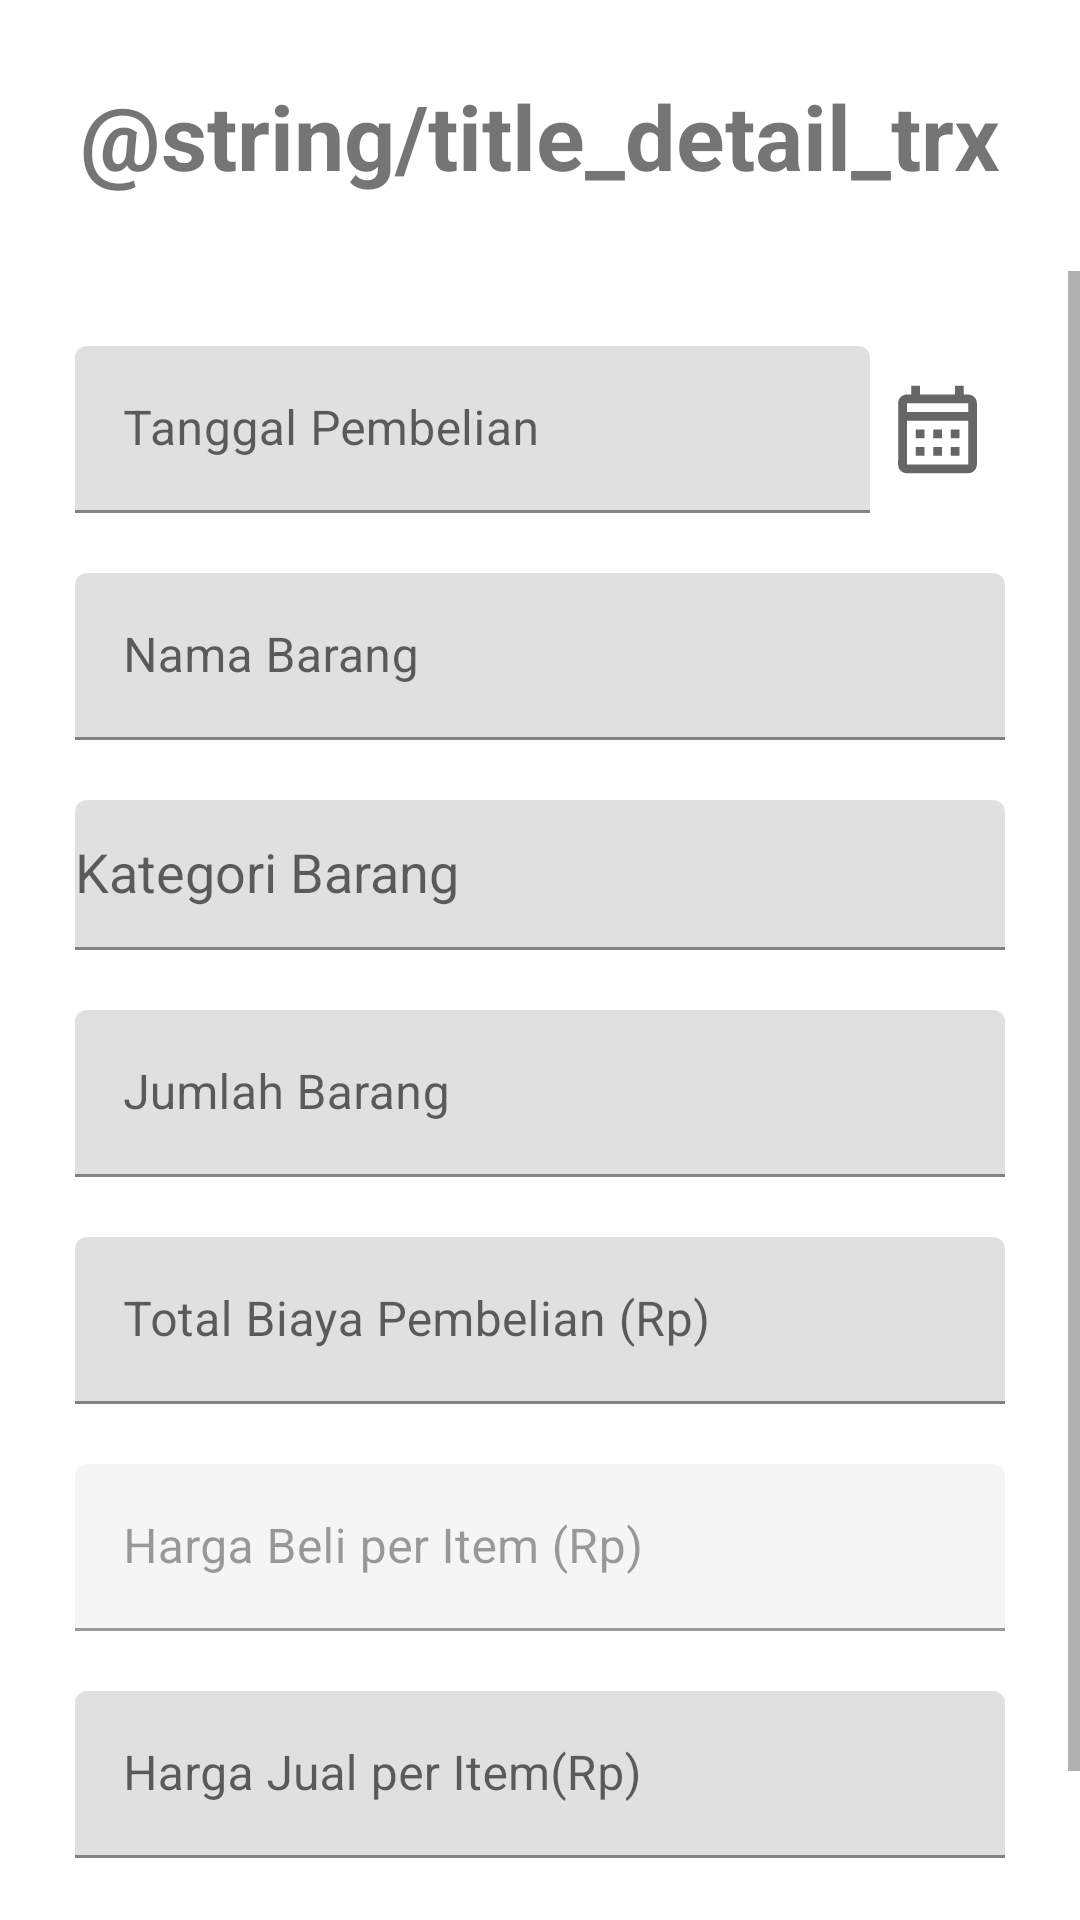

Icon bounding boxes for this 1080x1920 phone screenshot, format (x1, y1, x2, y2):
calendar month: (898, 385, 977, 474)
